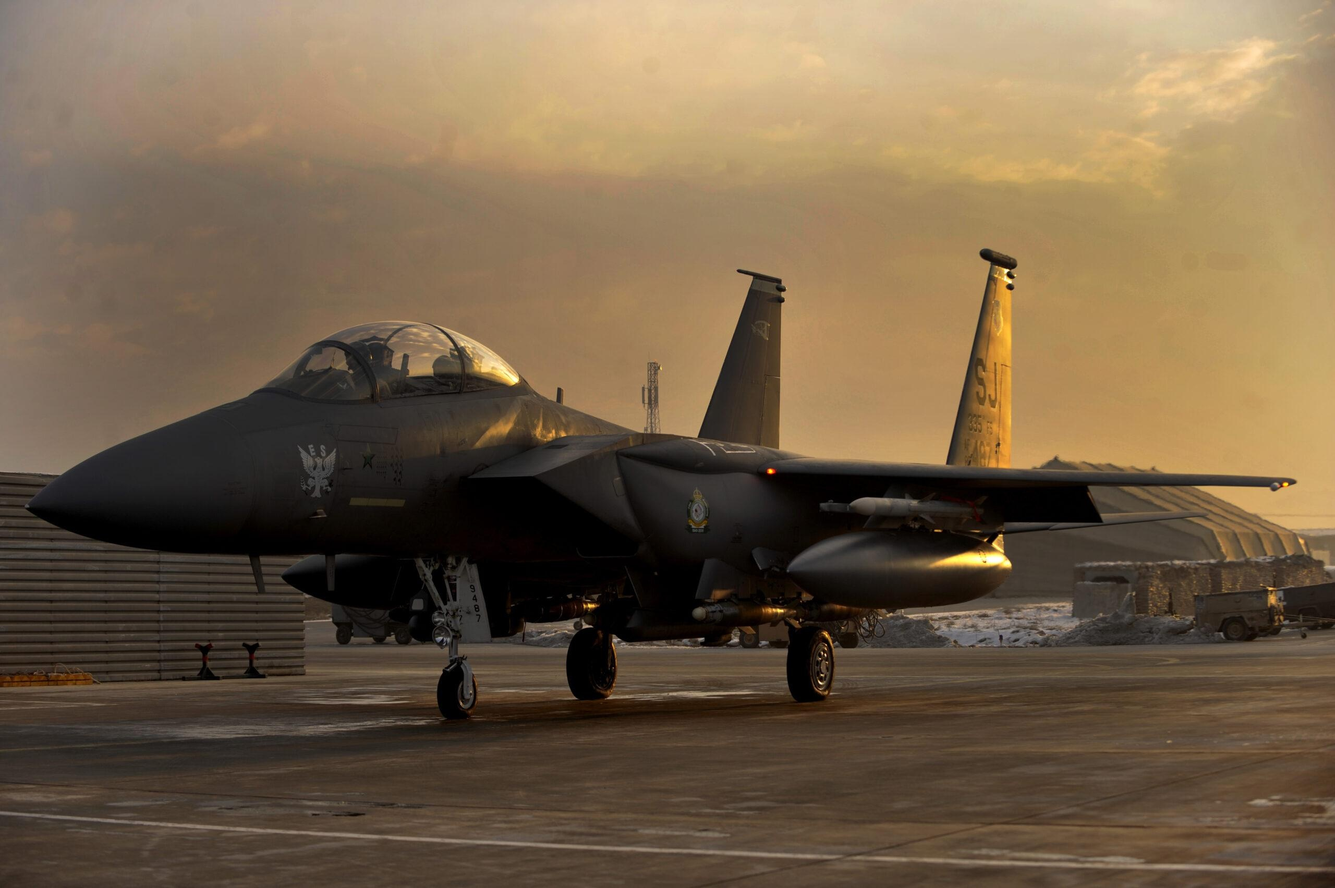aircraft: (35, 256, 1334, 715)
